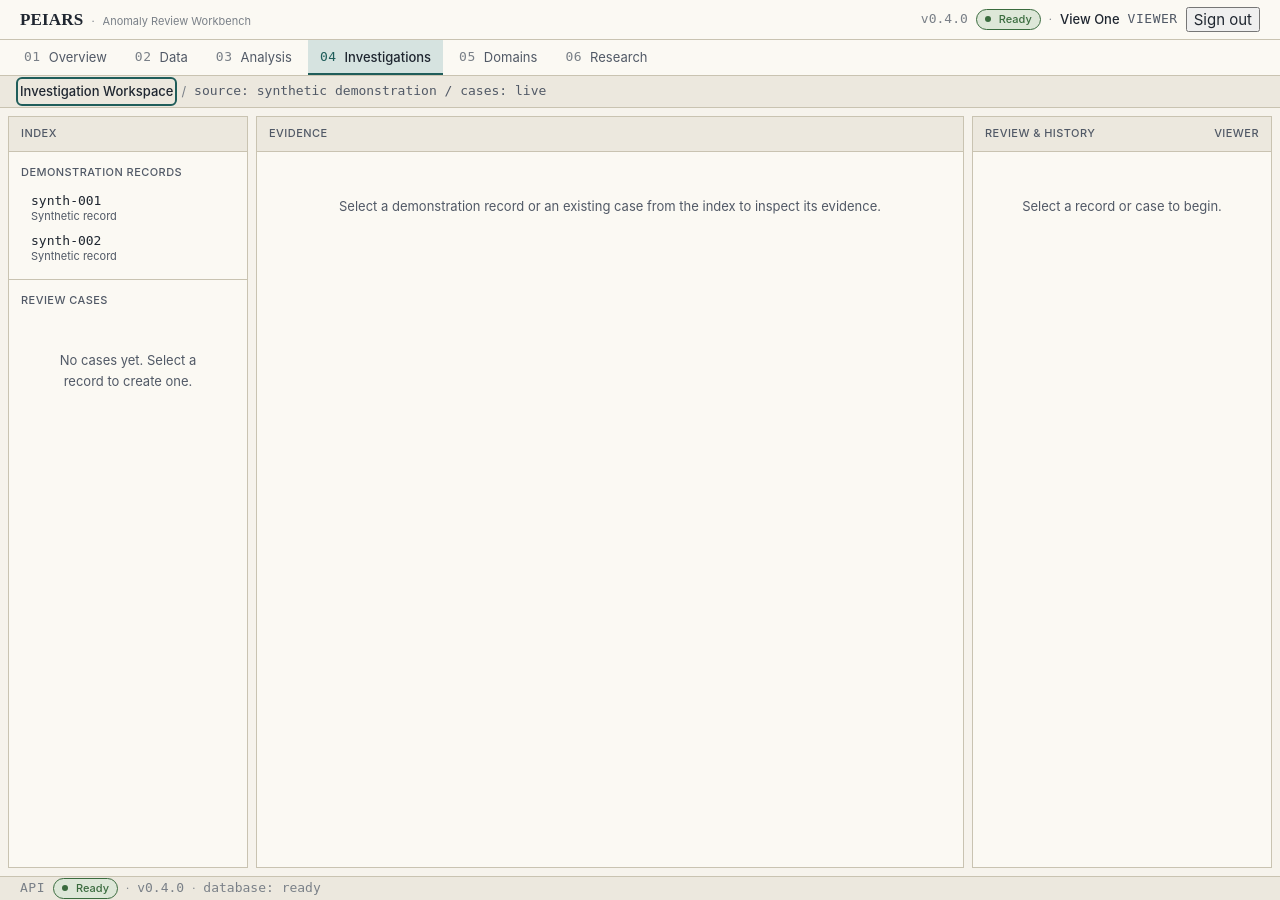
Test: investigation workflow › a viewer cannot see the create-case form (read-only)
The image size is (1280, 900).
Expected: the heading "Demonstration records" is shown, [21, 165, 182, 179]
What coordinates should you click on to do the following:
click the text "synth-001"
I would click on:
 (66, 201)
Its box is [31, 193, 102, 208].
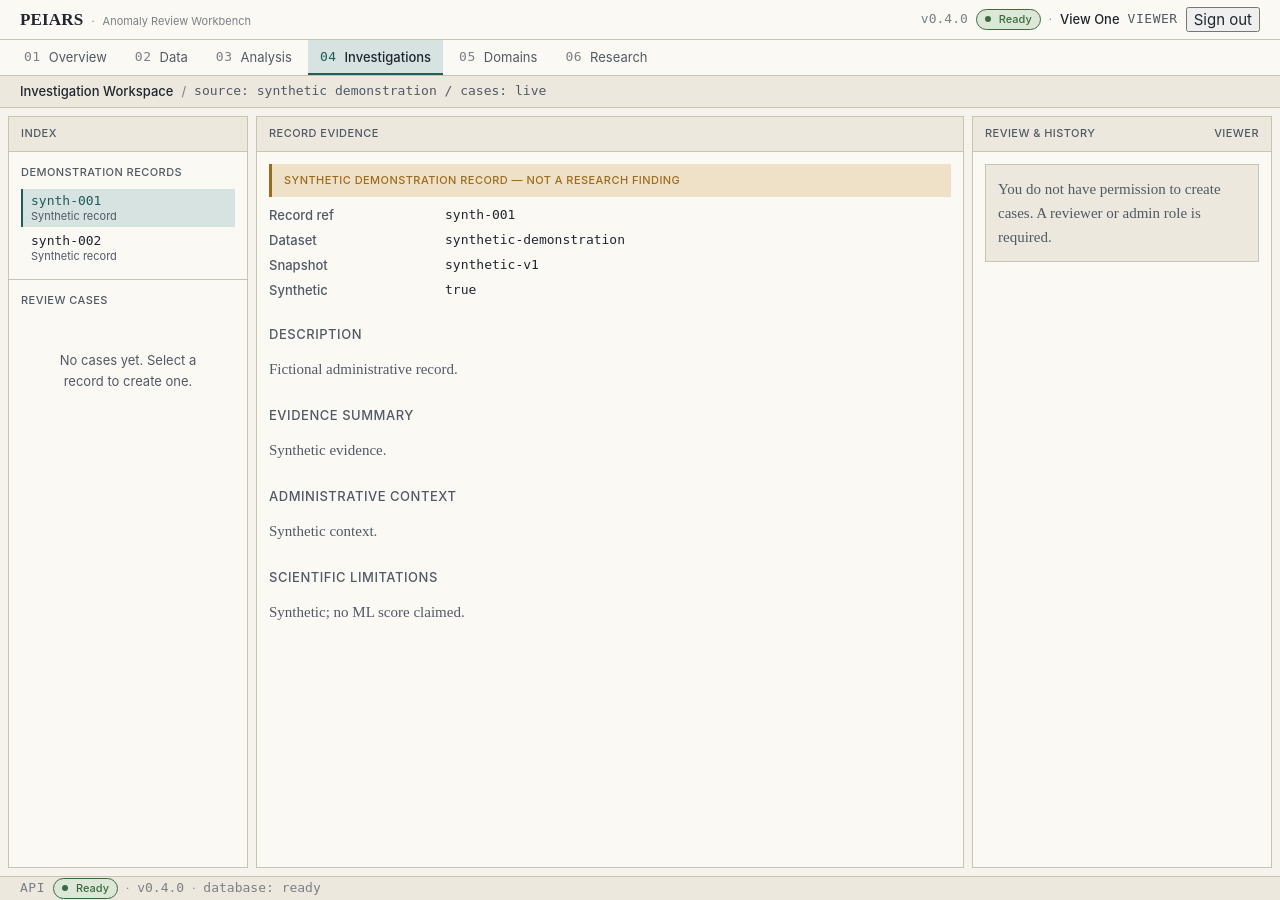
Expected: the text "do not have permission to create cases" is shown, [998, 181, 1221, 245]
